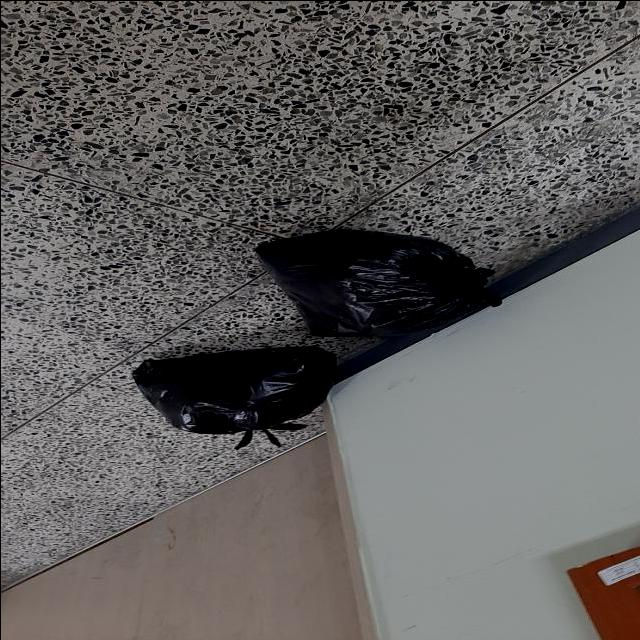black_bag: (254, 230, 504, 340), (130, 344, 340, 448)
